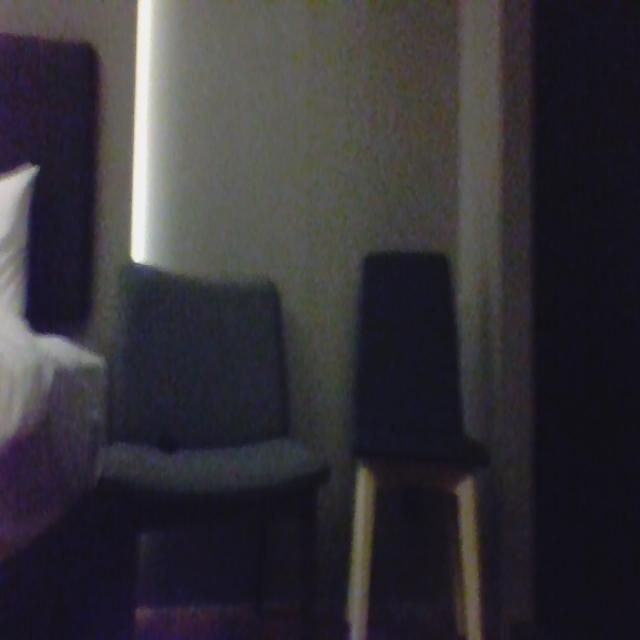empty: (118, 278, 297, 481), (360, 243, 472, 472)
